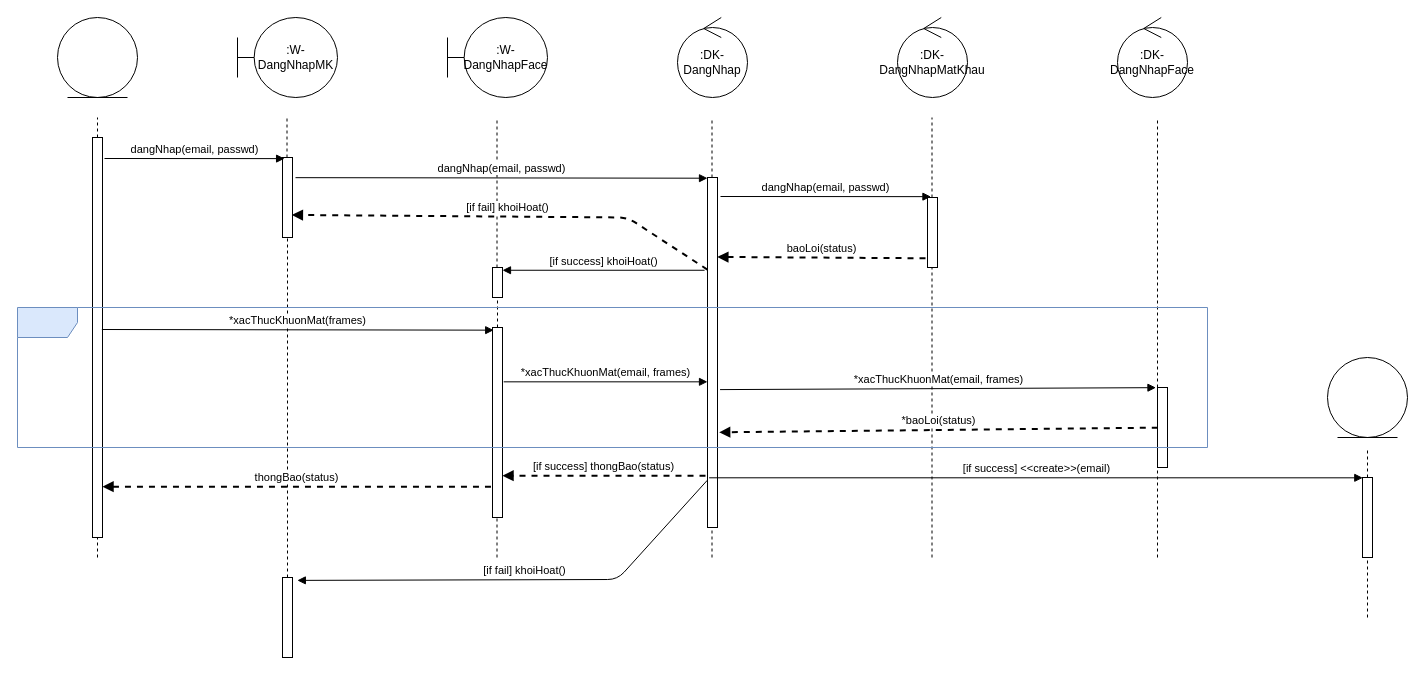
This 1425x675 diagram has some shape labels left out. Here are the shapes that lost their labels. From the top down, the centre of each, then its label:
At pixel 97 57: ":User".
At pixel 612 377: "loop".
At pixel 1367 397: ":Session".
